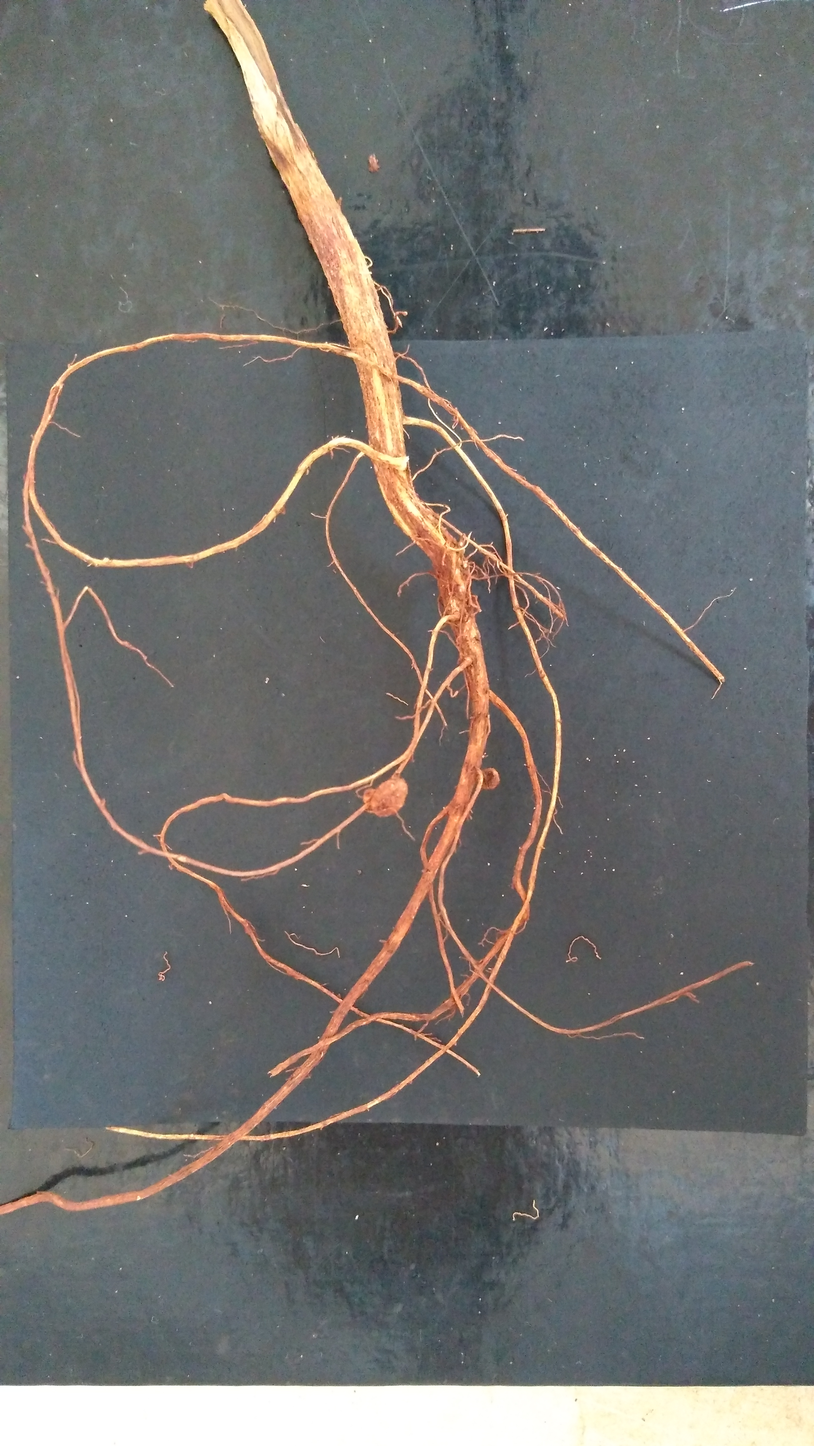nodule: (363, 778, 408, 818), (479, 767, 499, 789), (463, 563, 468, 568)
